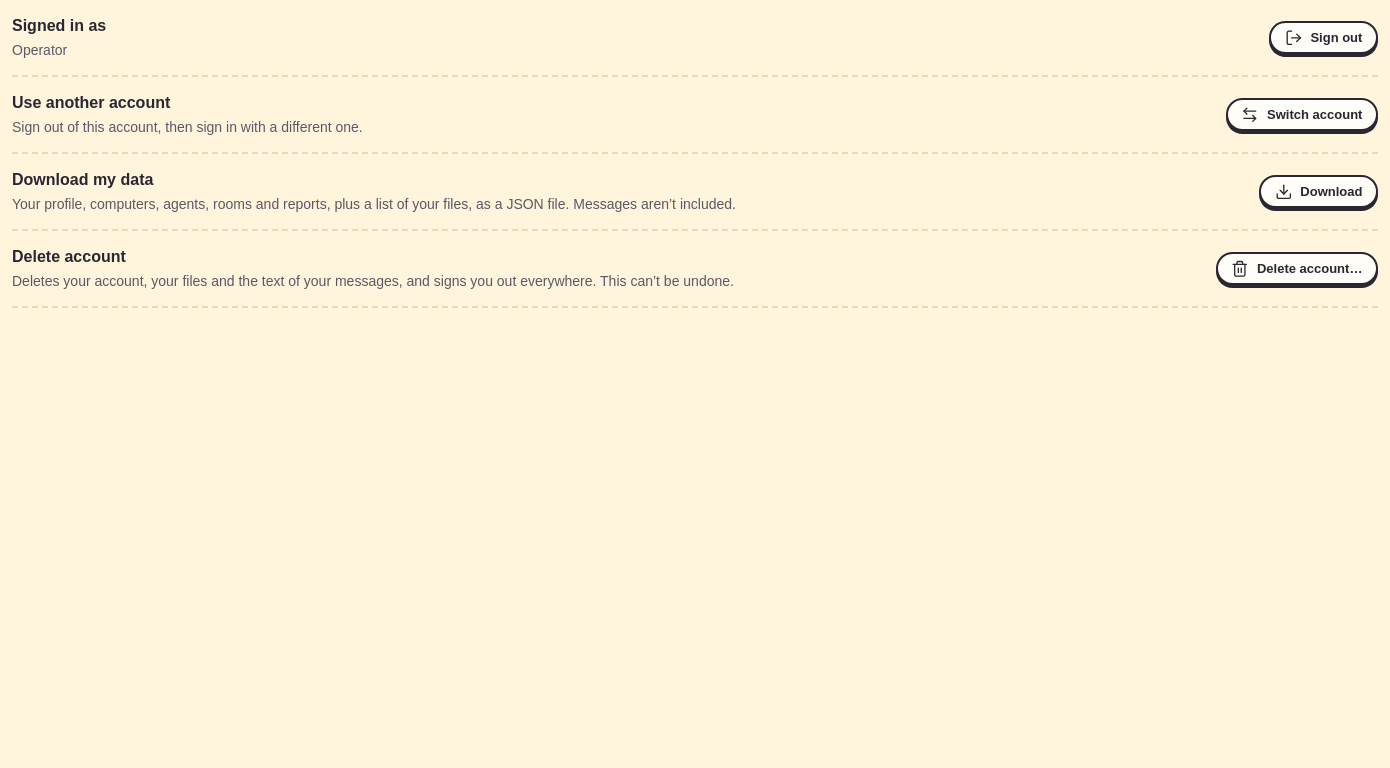
Scenario: 设置里的账户 › 服务器要求重新登录时换成重新登录，别的失败照实说
The width and height of the screenshot is (1390, 768).
Click the button "Delete account…" at (1297, 269), box left=1216, top=252, right=1378, bottom=285
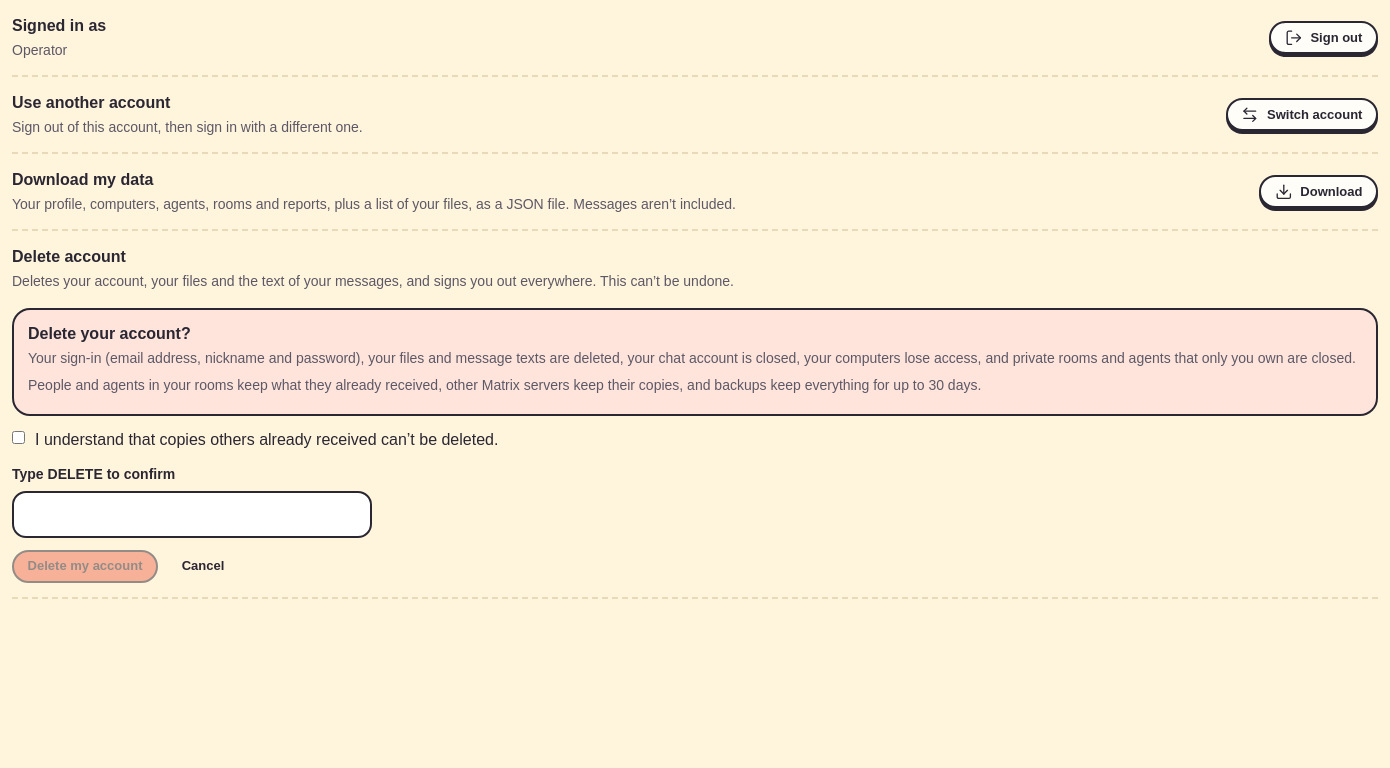
Click the checkbox at (18, 438), box left=12, top=431, right=25, bottom=444
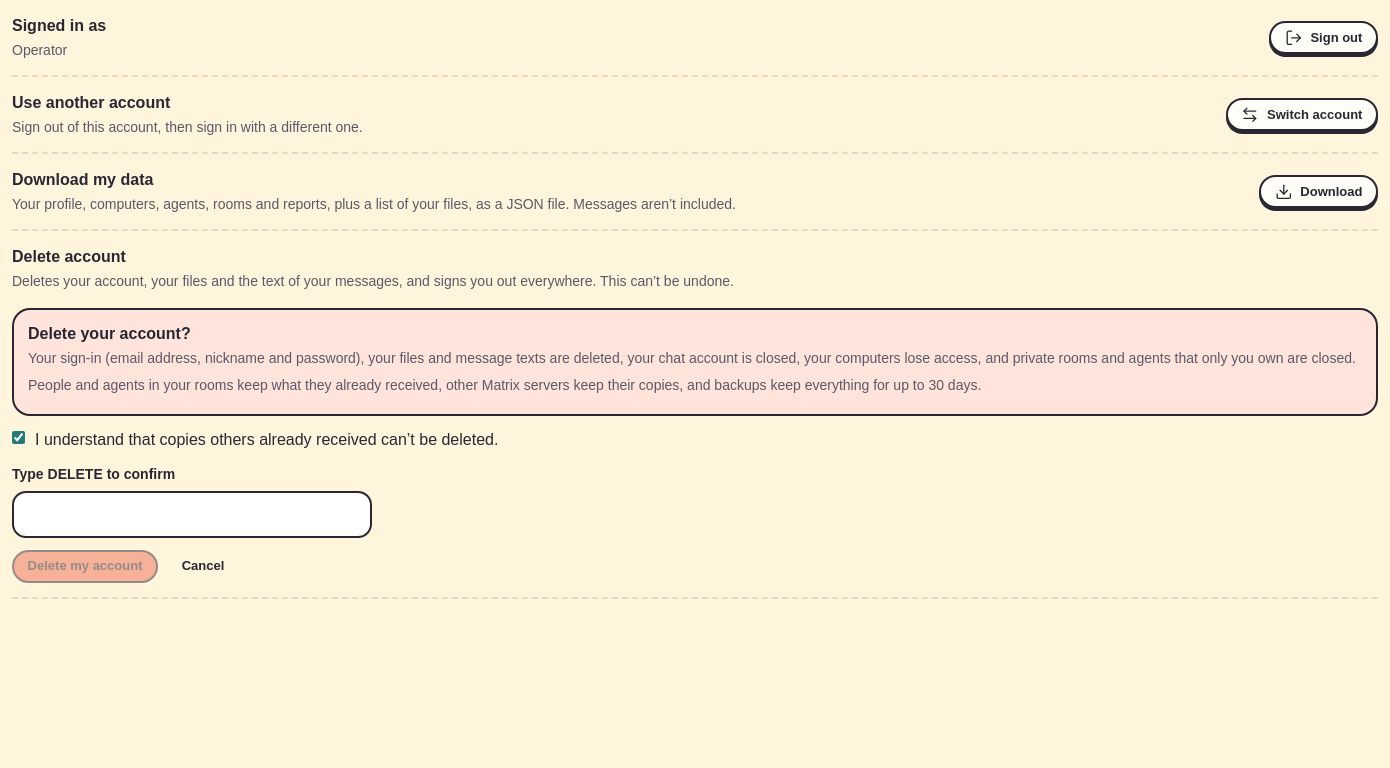
Type "DELETE" into the field labelled "Type DELETE to confirm" at (192, 514), box left=12, top=491, right=372, bottom=538
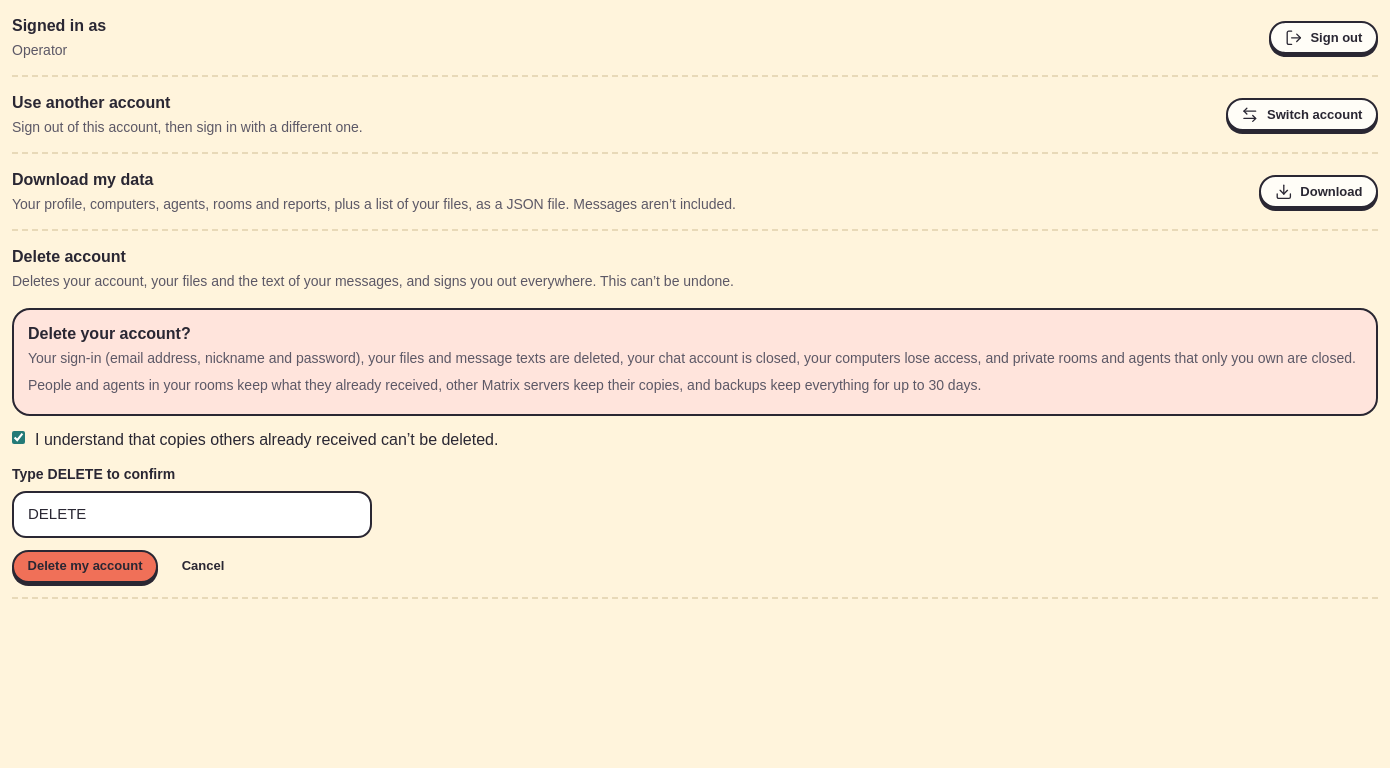
Click the button "Delete my account" at (85, 566), box left=12, top=550, right=158, bottom=583
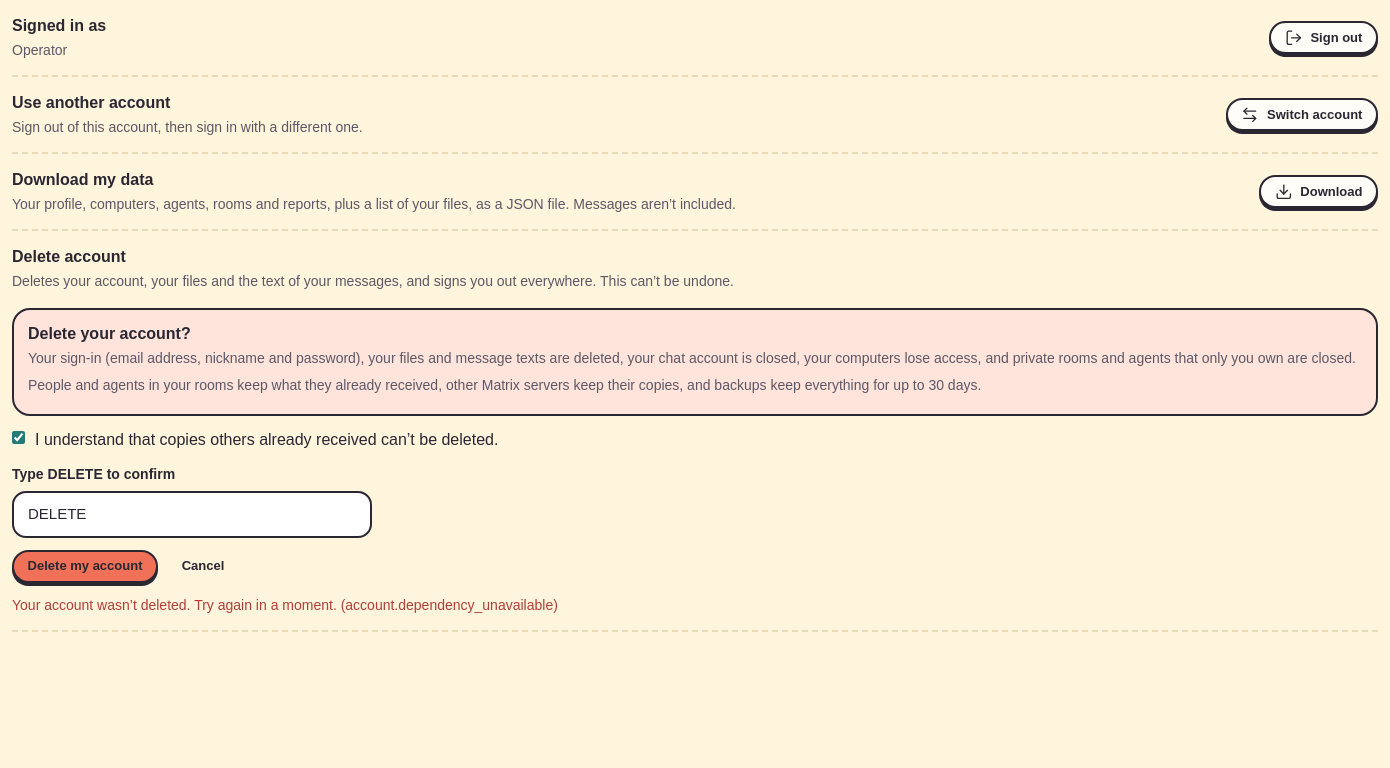
Expected: the message shows "account.dependency_unavailable", left=12, top=597, right=558, bottom=613
Click the button "Delete my account" at (85, 566), box left=12, top=550, right=158, bottom=583
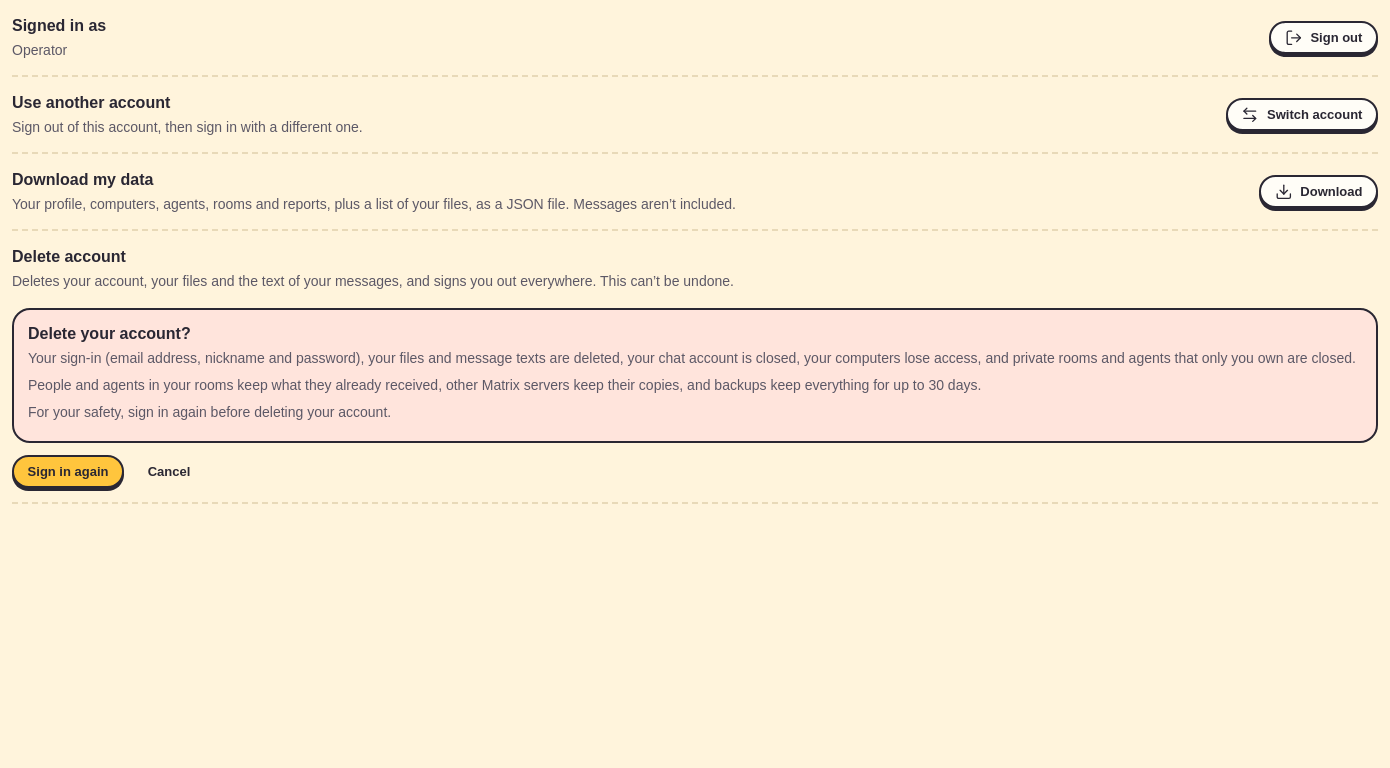
Expected: the button "Sign in again" is shown, left=12, top=455, right=124, bottom=488
